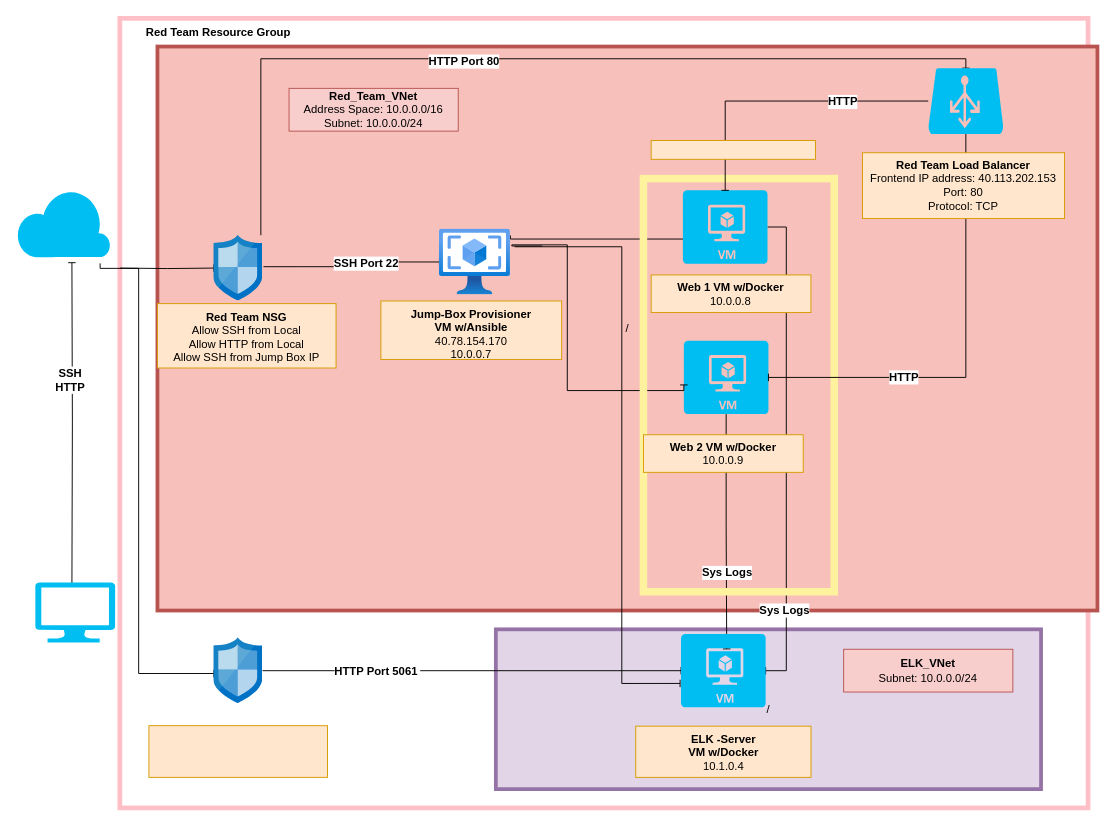
The diagram is 1115 pixels wide and 826 high, and some of its shapes have lost their labels. Each missing label, with the centre of its shape:
"ELK-Server NSG Allow SSH from Any Port 5601 from Local" goes at point 237,751.
"Internet" goes at point 63,222.
"Load Balancer Backend Pool" goes at point 732,149.
